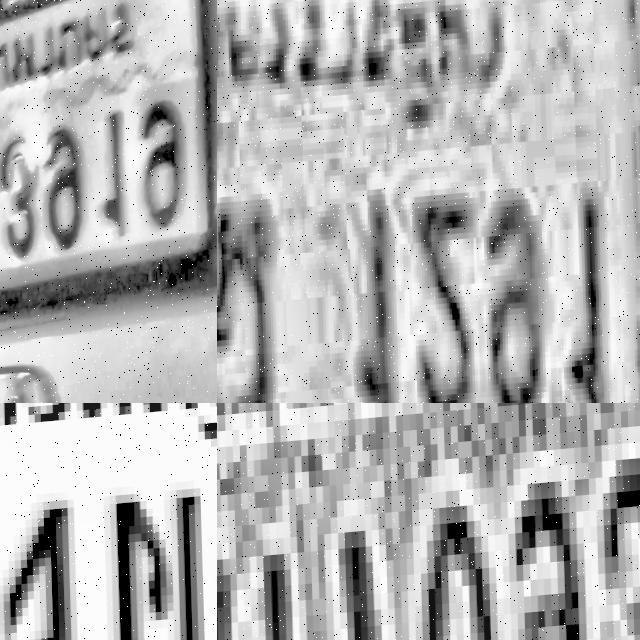license-plate: (217, 0, 640, 403), (217, 403, 640, 640), (0, 0, 210, 327), (0, 403, 217, 640)
